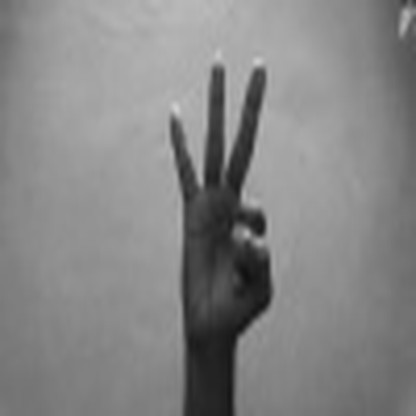f: (158, 37, 285, 341)
